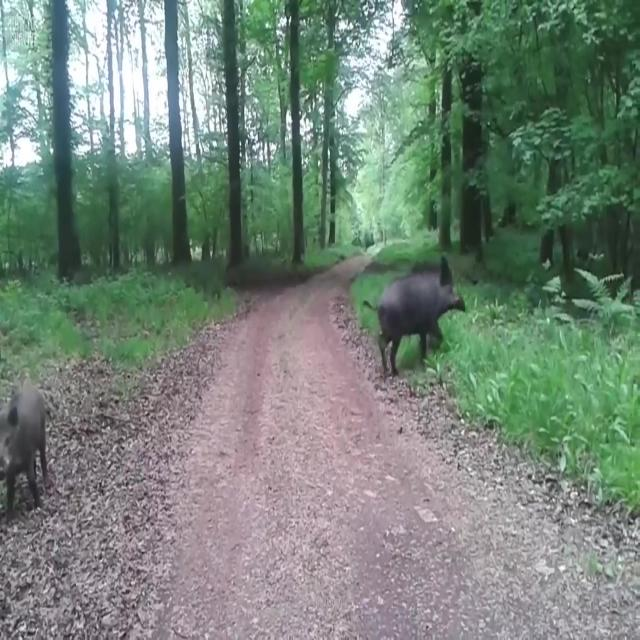pig: (361, 255, 471, 387), (0, 369, 47, 510)
